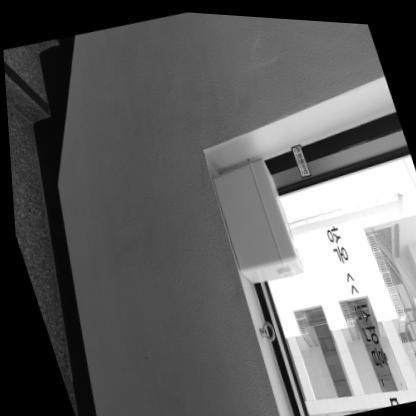DDL: (204, 149, 302, 283)
